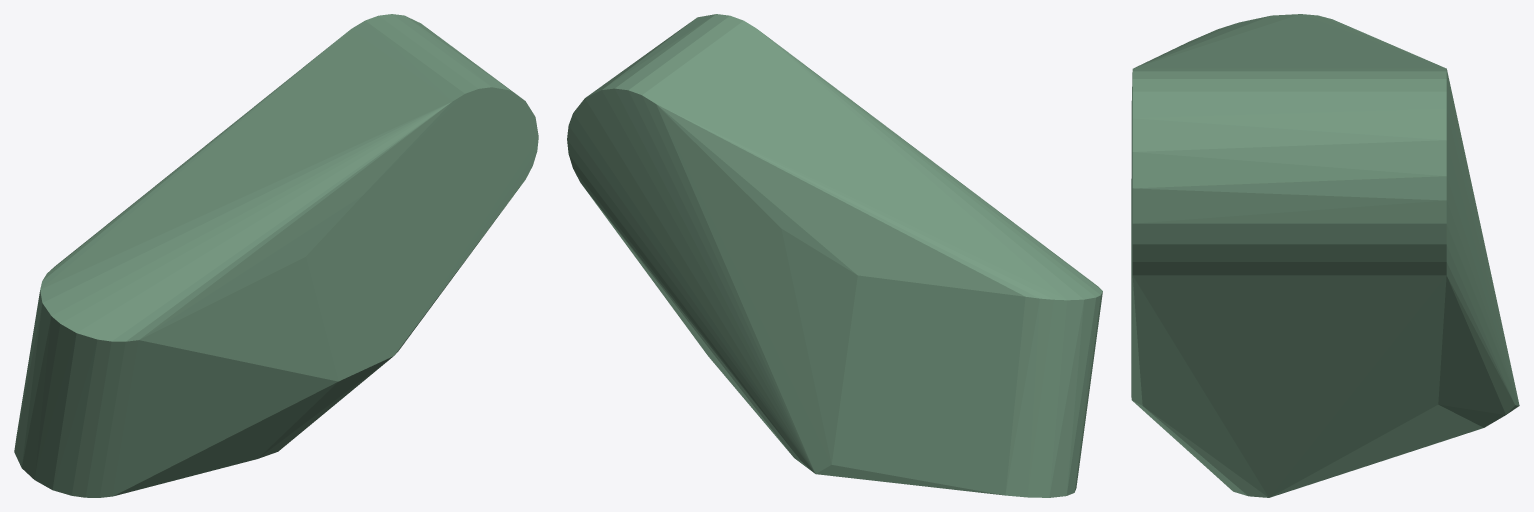
Rendered from thumb-F1_C_collision000.obj.
3 views of the same model, side by side, from view 1: azimuth 30°, elevation 25°; view 2: azimuth 150°, elevation 25°; view 3: azimuth 270°, elevation 25° (orthographic). The views are drawn at different scales.
Bounding box in the file's own units: 0.0377 × 0.0275 × 0.0178.
